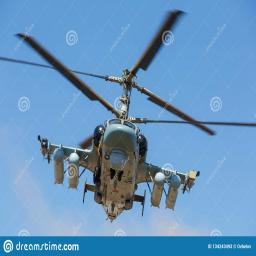helicopter: (8, 9, 242, 226)
